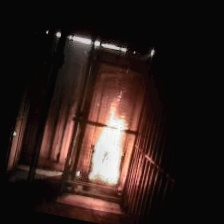fire: (80, 98, 141, 194)
